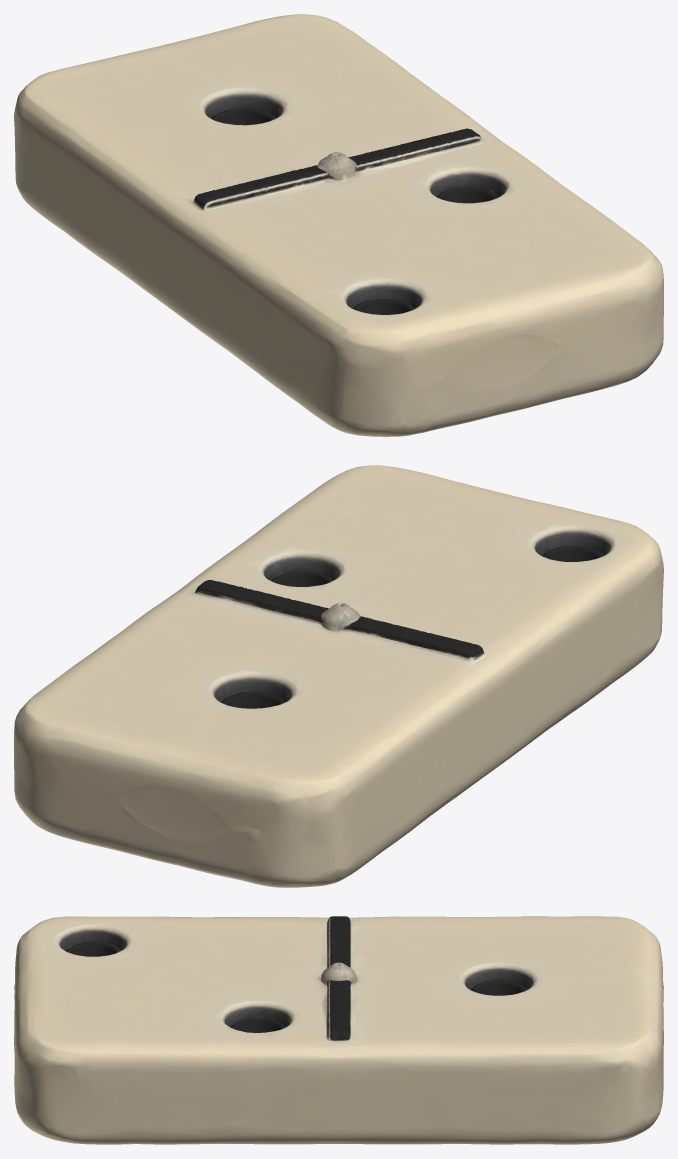
The model's file is 2-1-domino.glb.
The picture shows the model from 3 angles, top to bottom: view 1: azimuth 30°, elevation 25°; view 2: azimuth 150°, elevation 25°; view 3: azimuth 270°, elevation 25°; orthographic projection. The views are drawn at different scales.
Parts seen in each view (by area): view 1: tripo_node_8ccc603e-8e32-4860-a811-278ca7594e01; view 2: tripo_node_8ccc603e-8e32-4860-a811-278ca7594e01; view 3: tripo_node_8ccc603e-8e32-4860-a811-278ca7594e01.
Boxes of the visible parts, x1=… form: tripo_node_8ccc603e-8e32-4860-a811-278ca7594e01: x1=14, y1=14, x2=663, y2=436; tripo_node_8ccc603e-8e32-4860-a811-278ca7594e01: x1=14, y1=465, x2=663, y2=887; tripo_node_8ccc603e-8e32-4860-a811-278ca7594e01: x1=14, y1=916, x2=663, y2=1144.
Bounding box in the file's own units: 0.5062 × 0.1937 × 0.9817.
Materials: 1 (1 with a texture image).
